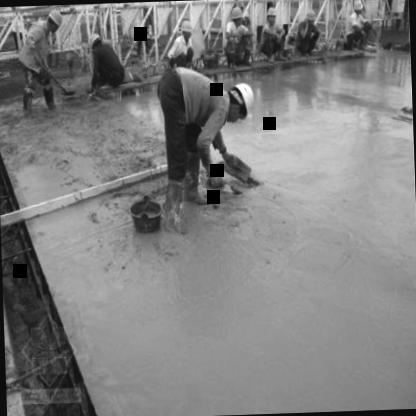helmet: (223, 80, 258, 122), (43, 7, 70, 38), (225, 1, 248, 32), (178, 16, 198, 45), (302, 2, 320, 30), (85, 29, 104, 52), (347, 0, 367, 20), (264, 4, 281, 27)
